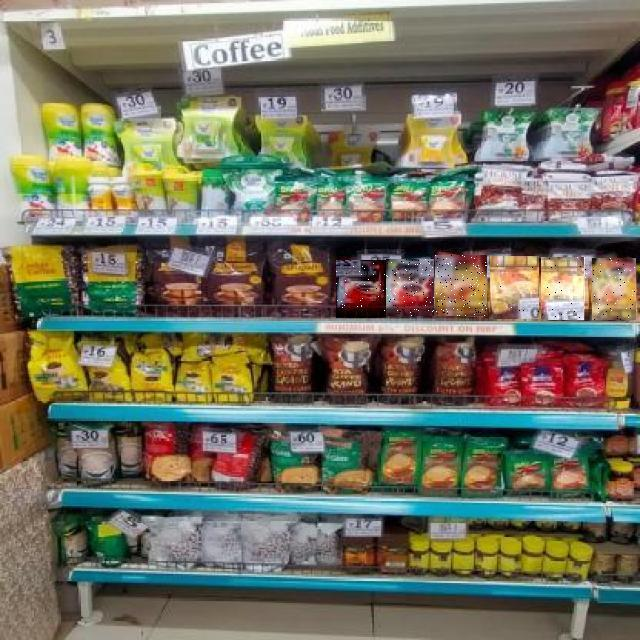Coffee: (435, 255, 487, 316), (490, 256, 539, 319), (336, 260, 386, 318), (542, 257, 588, 320), (386, 259, 434, 316), (592, 258, 636, 320)
